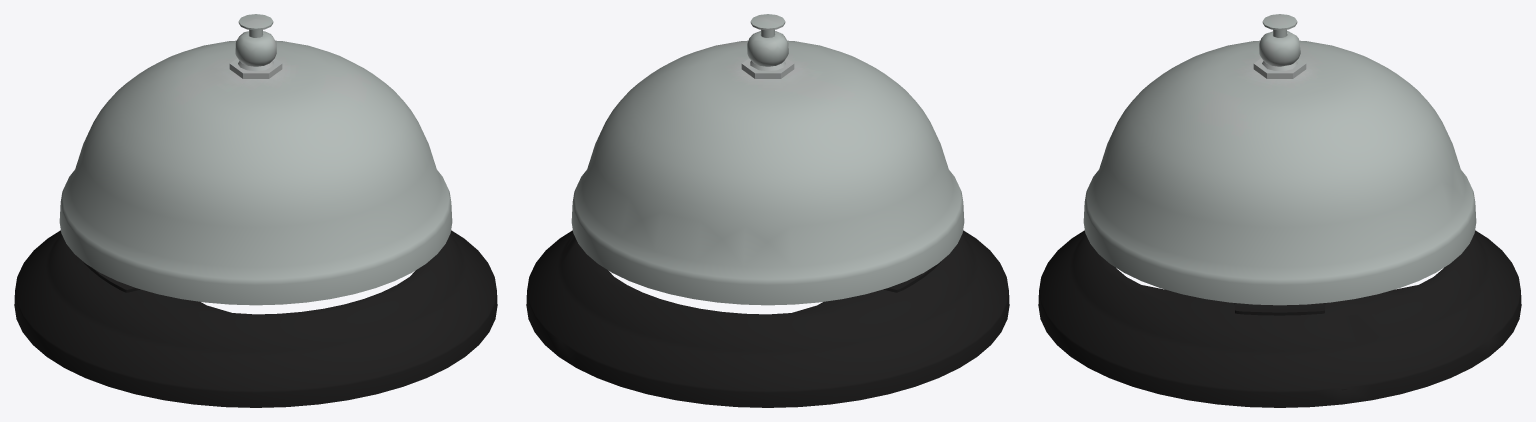
Rendered from table_bell.glb.
3 renders of one model, left to right at view 1: azimuth 30°, elevation 25°; view 2: azimuth 150°, elevation 25°; view 3: azimuth 270°, elevation 25°, orthographic.
Visible parts, largest first — view 1: Dome_Metal_0, Base_Black_metal_0; view 2: Dome_Metal_0, Base_Black_metal_0; view 3: Dome_Metal_0, Base_Black_metal_0.
Boxes of the visible parts, x1,y1,x2,y2 form: Dome_Metal_0: (59,14,452,305); Base_Black_metal_0: (14,230,497,407); Dome_Metal_0: (571,14,964,305); Base_Black_metal_0: (526,230,1009,407); Dome_Metal_0: (1083,14,1476,305); Base_Black_metal_0: (1038,230,1521,407).
Bounding box in the file's own units: 0.1 × 0.0655 × 0.1.
Materials: 2 (1 with a texture image).
